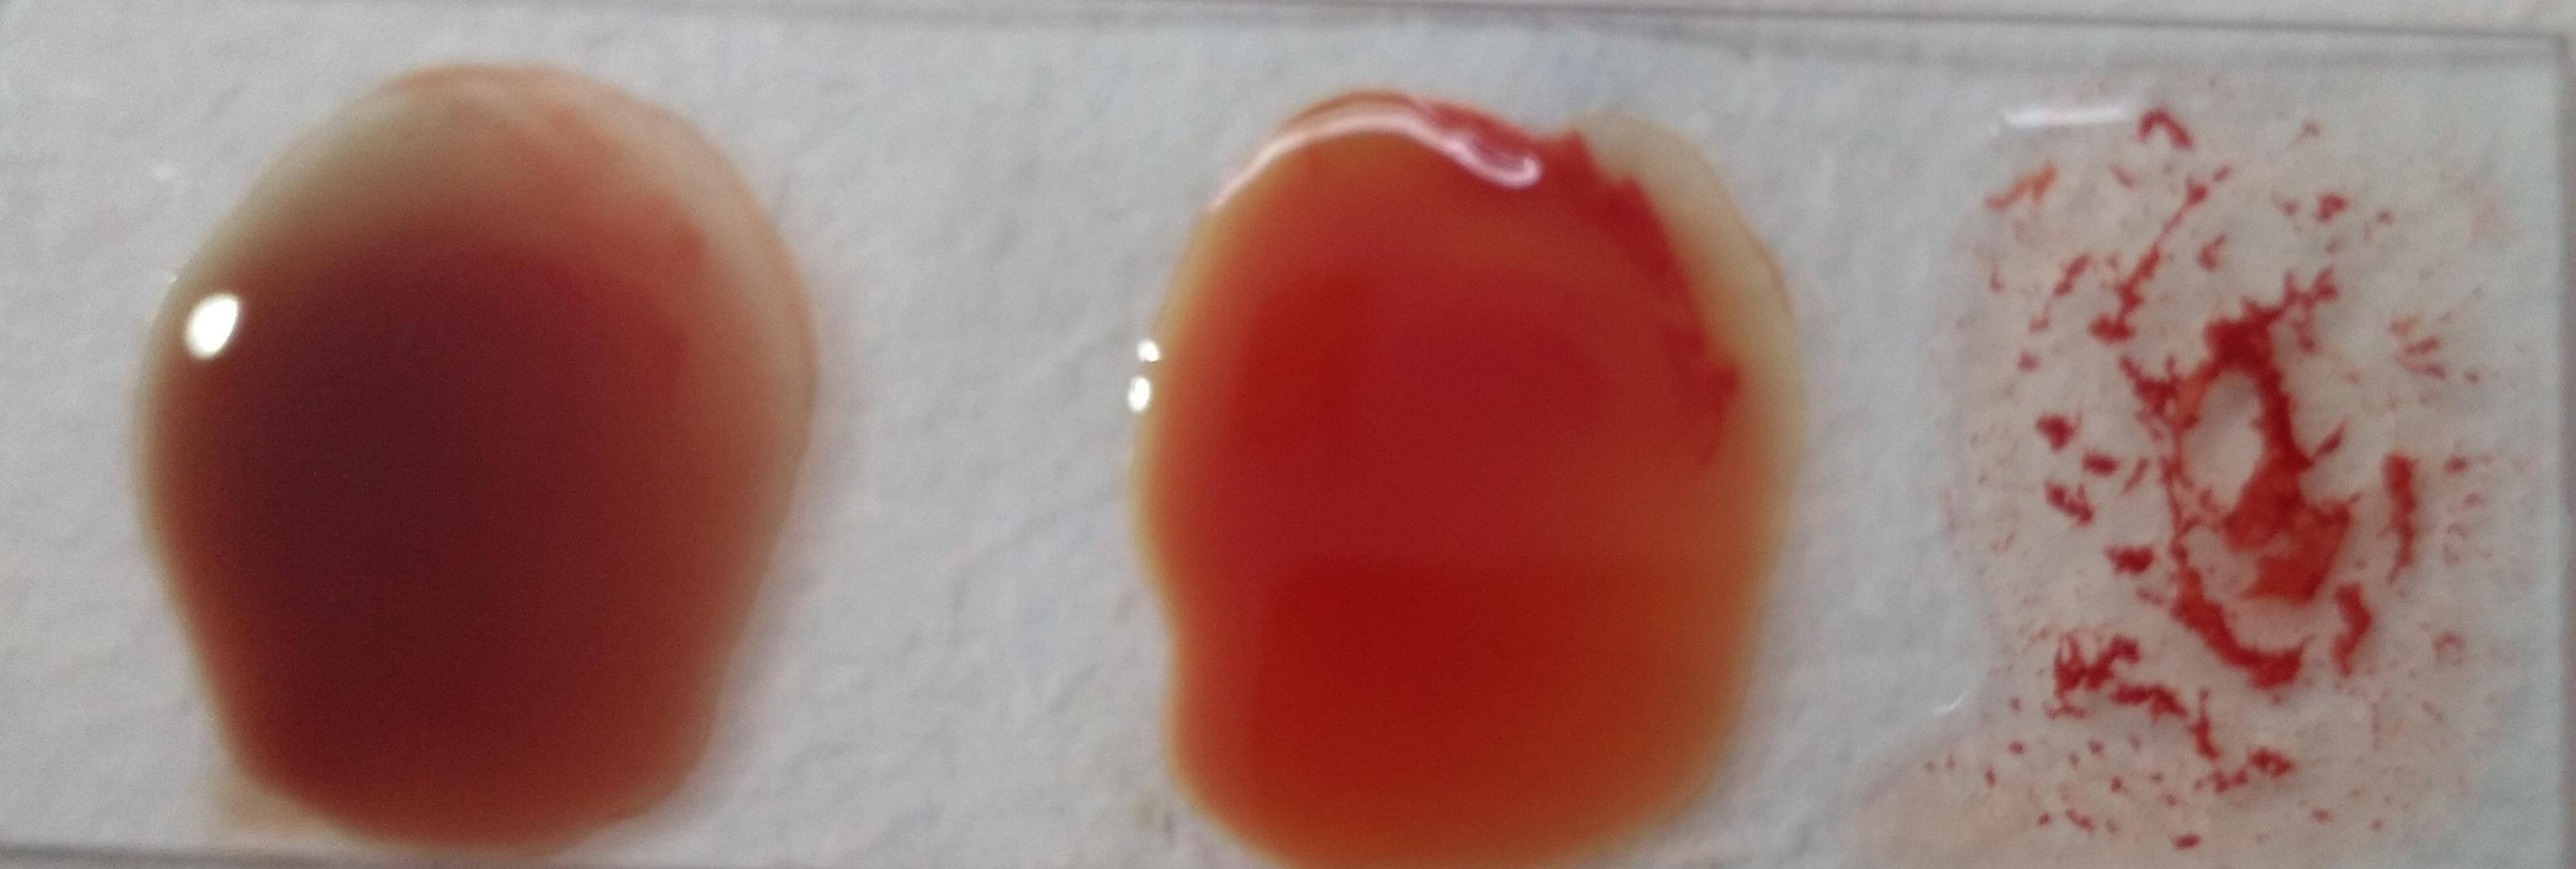D: (1917, 64, 2527, 848)
